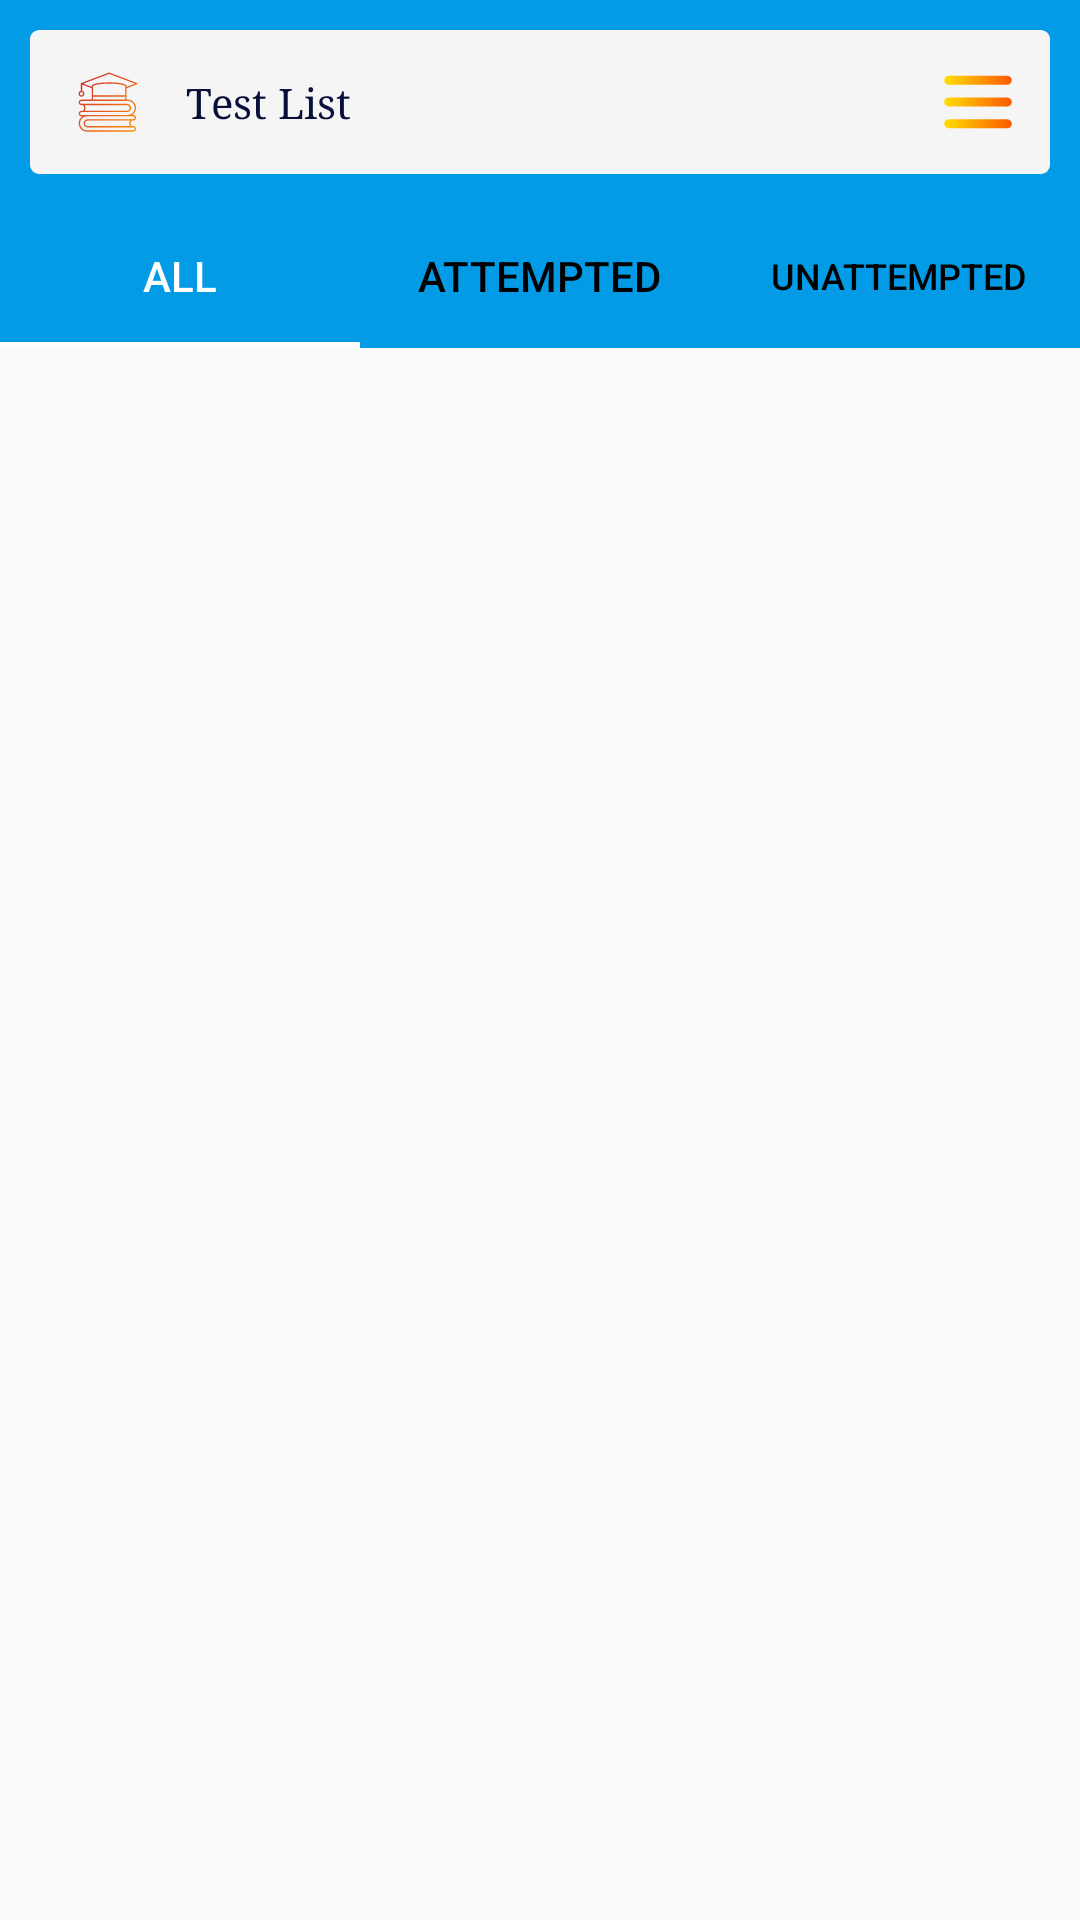

Screen size 1080px x 1920px. Icon name, then its center in pixels as point (x, y):
question bank: point (108, 102)
